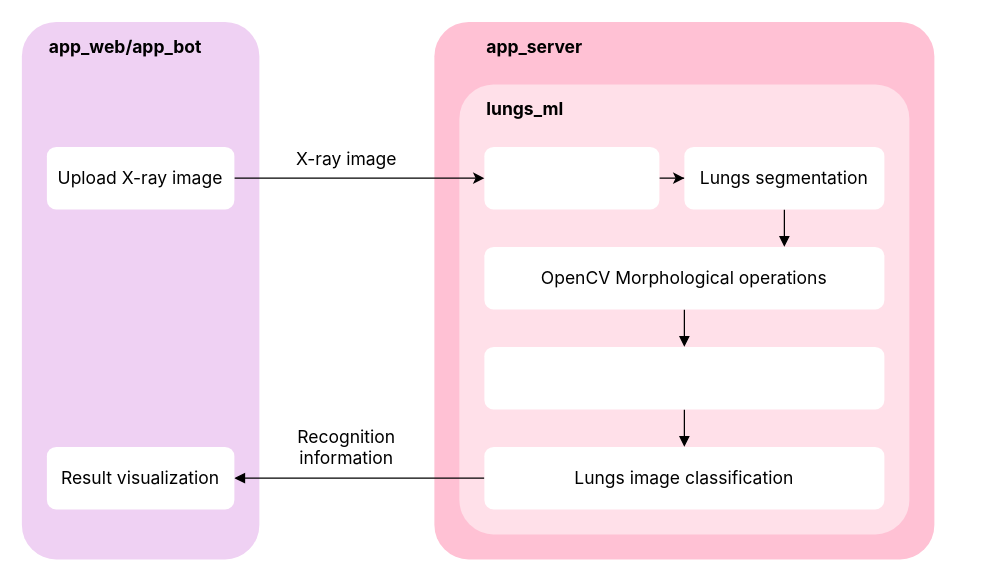
Some shapes in this 1005 by 580 pixel diagram are drawn without their labels. The centre of each missing label's shape, as x and y in pixels:
"Preprocessing for classification" goes at point (684, 377).
"Preprocessing for segmentation" goes at point (571, 177).
